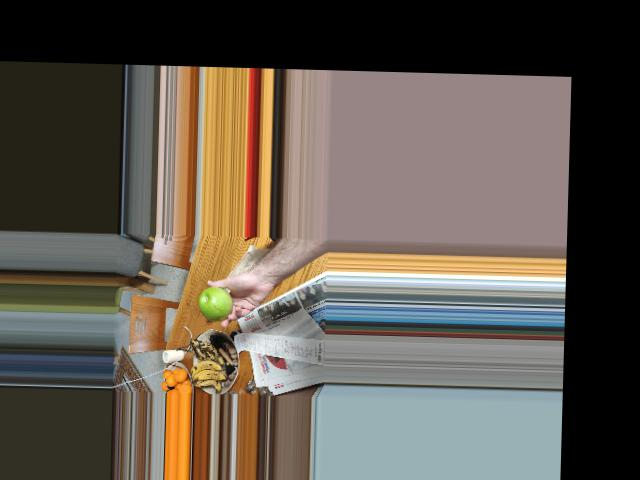apple: (196, 287, 234, 320)
